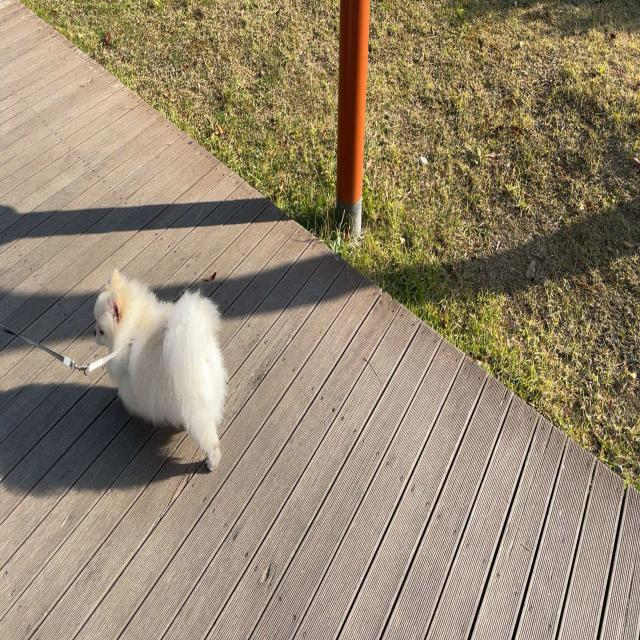Dog: (92, 266, 229, 473)
